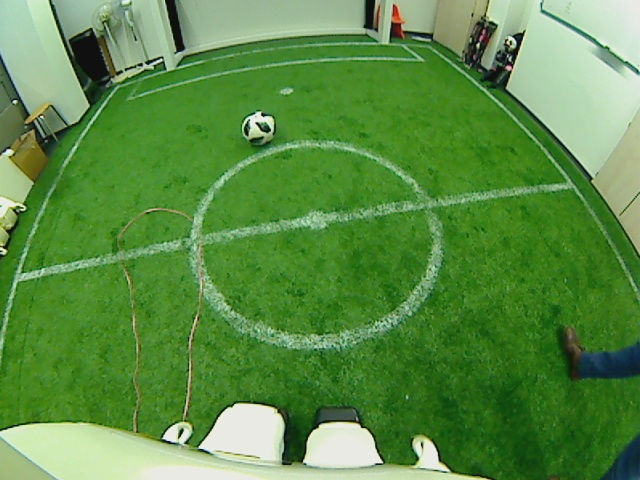ball: (240, 110, 276, 145)
